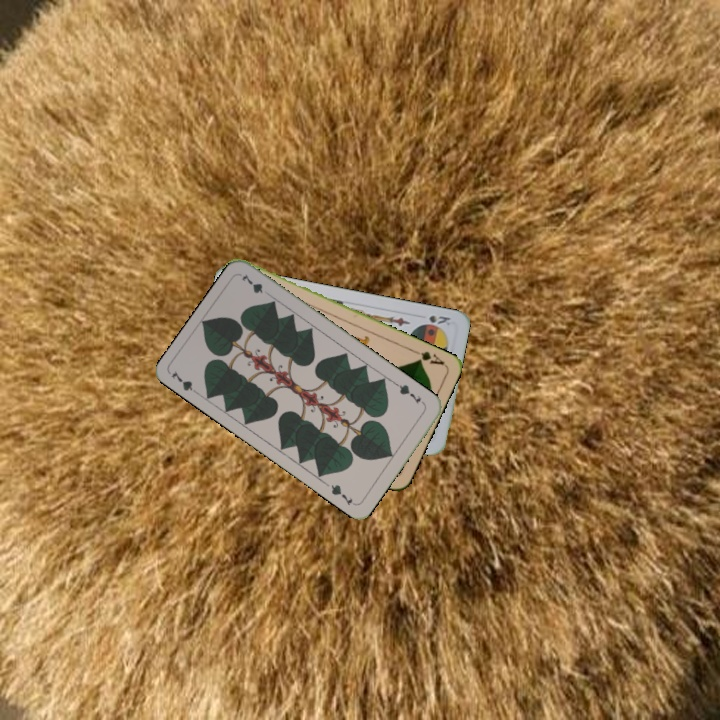G7: (167, 367, 203, 399), (392, 380, 423, 406)
GA: (408, 346, 447, 368)
SK: (425, 311, 453, 329)
